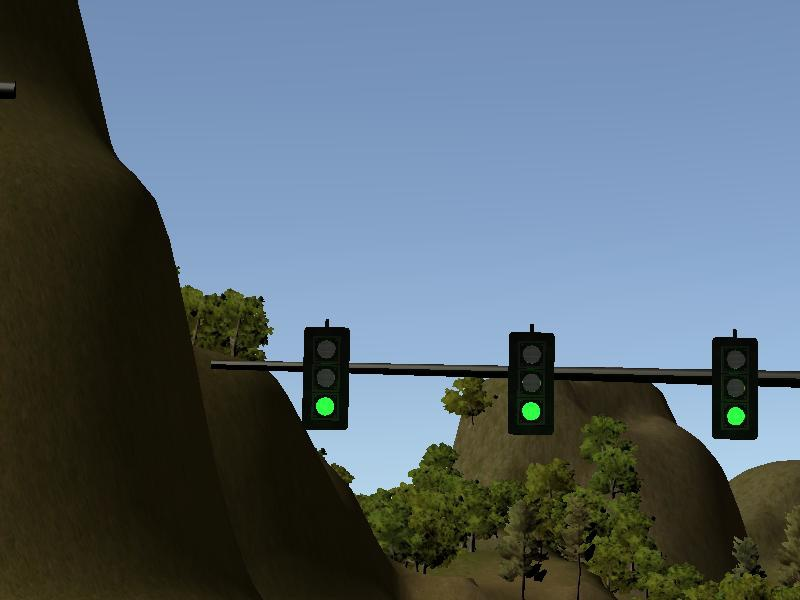Green: (711, 338, 756, 440), (510, 332, 553, 434), (305, 328, 347, 429)
